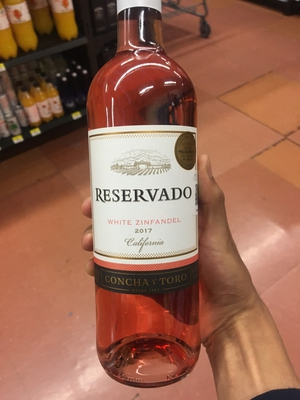reservado white zinfandel: (81, 6, 214, 379)
